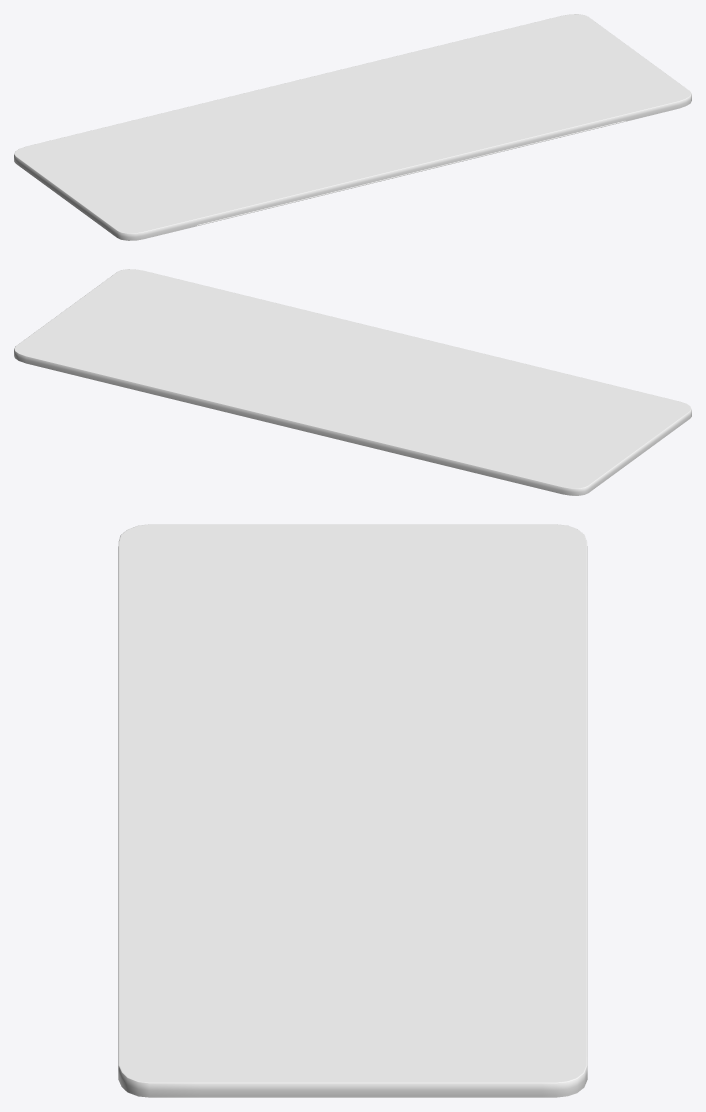
Rendered from ceilac.glb.
The picture shows the model from 3 angles, top to bottom: view 1: azimuth 30°, elevation 25°; view 2: azimuth 150°, elevation 25°; view 3: azimuth 270°, elevation 25°; orthographic projection. The views are drawn at different scales.
Parts seen in each view (by area): view 1: BP_RS1000125; view 2: BP_RS1000125; view 3: BP_RS1000125.
Part boxes in pixels (x1,y1,x2,y2): BP_RS1000125: (14,14,691,240); BP_RS1000125: (14,269,691,495); BP_RS1000125: (118,524,587,1097).
Size of the model in its own units: 1.41 by 0.0351 by 0.5.
2 materials, 2 textured.
